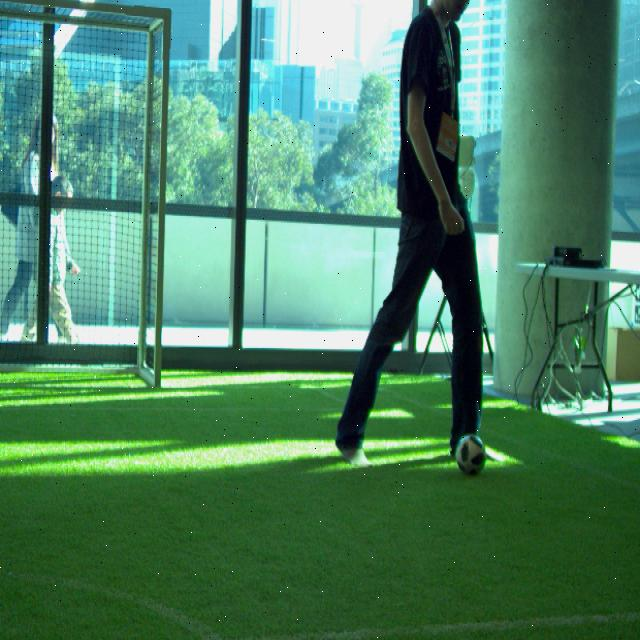ball: (453, 435, 486, 476)
goalpost: (153, 16, 171, 388)
